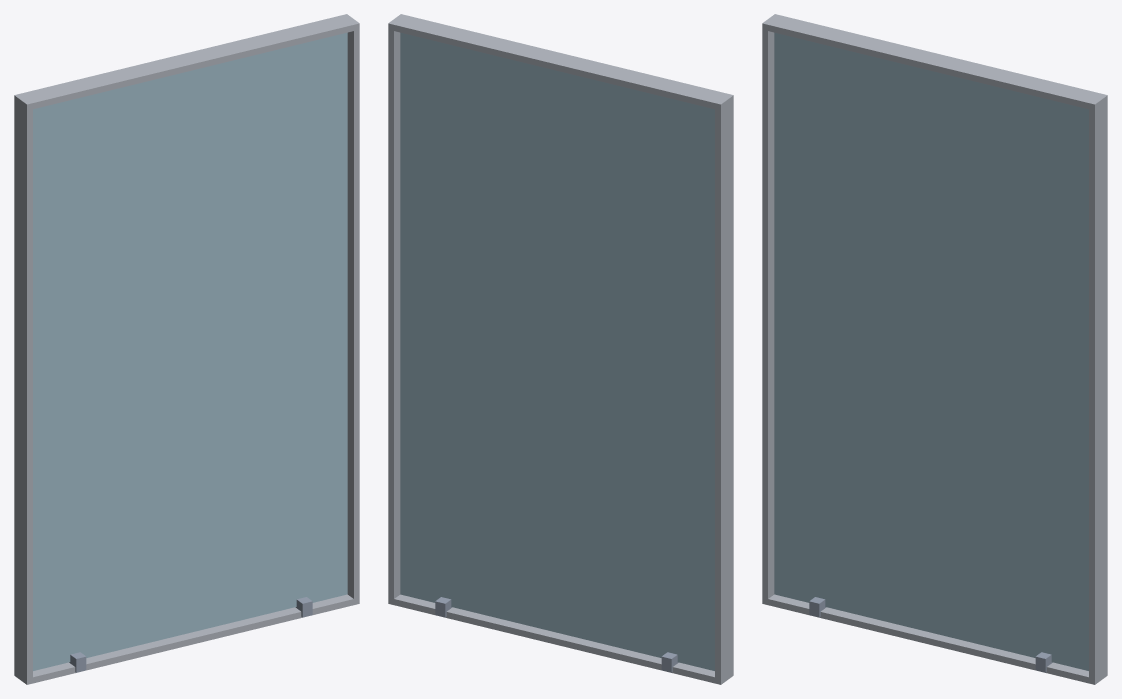
Rendered from glasspartition-lite.glb.
3 views of the same model, side by side, from view 1: azimuth 30°, elevation 25°; view 2: azimuth 150°, elevation 25°; view 3: azimuth 330°, elevation 25° (orthographic).
Visible parts, largest first — view 1: glasspartition; view 2: glasspartition; view 3: glasspartition.
Boxes of the visible parts, x1,y1,x2,y2 form: glasspartition: (14,14,359,684); glasspartition: (388,14,733,684); glasspartition: (762,14,1107,684).
Size of the model in its own units: 1.2 by 2 by 0.0943.
